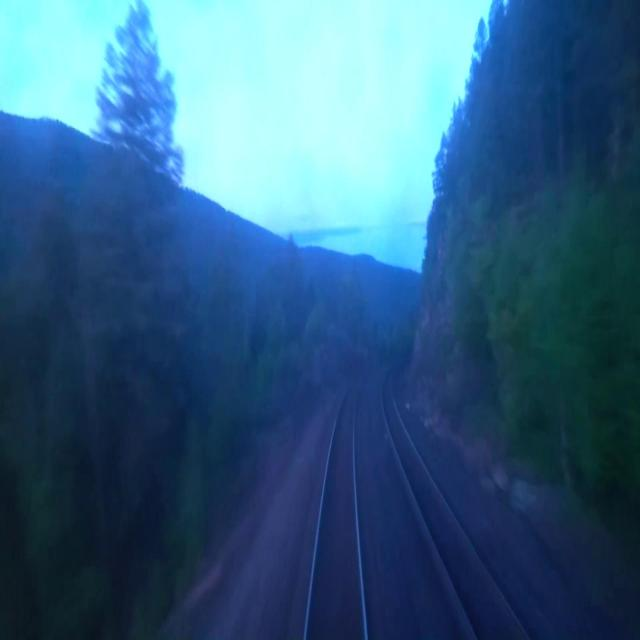rail-track: (383, 362, 526, 639), (308, 386, 362, 639)
